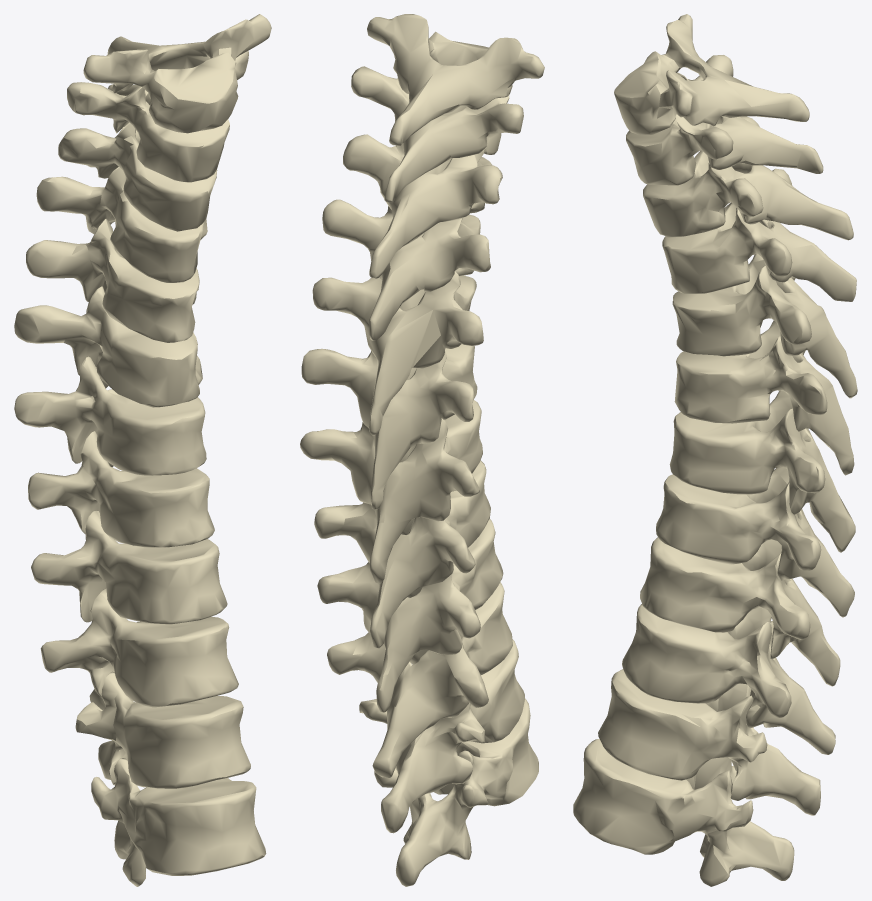
File: thoracic_vertebra.glb
The picture shows the model from 3 angles, left to right: view 1: azimuth 30°, elevation 25°; view 2: azimuth 150°, elevation 25°; view 3: azimuth 270°, elevation 25°; orthographic projection. The views are drawn at different scales.
Parts seen in each view (by area): view 1: Thoracic Vertebra; view 2: Thoracic Vertebra; view 3: Thoracic Vertebra.
Boxes of the visible parts, x1,y1,x2,y2 form: Thoracic Vertebra: [14, 14, 271, 886]; Thoracic Vertebra: [300, 14, 544, 886]; Thoracic Vertebra: [573, 14, 857, 886].
Bounding box in the file's own units: 0.0736 × 0.3269 × 0.1014.
